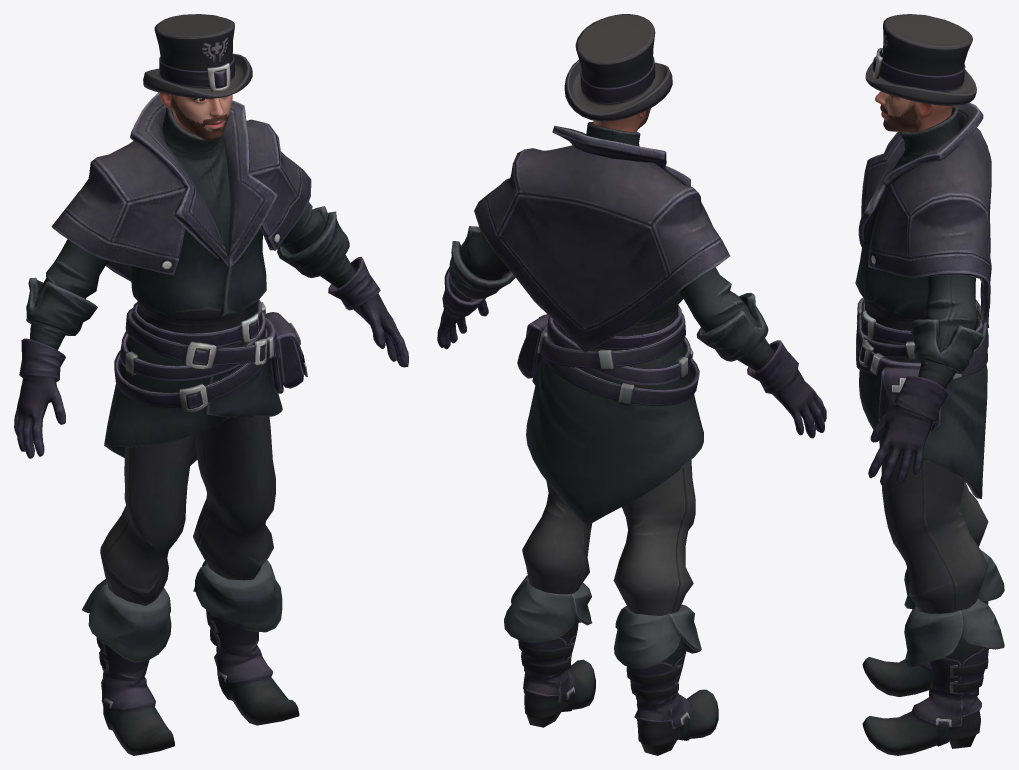
Rendered from person.gltf.
3 renders of one model, left to right at view 1: azimuth 30°, elevation 25°; view 2: azimuth 150°, elevation 25°; view 3: azimuth 270°, elevation 25°, orthographic.
Visible parts, largest first — view 1: Wolf3D_Outfit_Top, Wolf3D_Outfit_Bottom, Wolf3D_Outfit_Footwear, Wolf3D_Headwear, Wolf3D_Head; view 2: Wolf3D_Outfit_Top, Wolf3D_Outfit_Bottom, Wolf3D_Outfit_Footwear, Wolf3D_Headwear; view 3: Wolf3D_Outfit_Top, Wolf3D_Outfit_Bottom, Wolf3D_Outfit_Footwear, Wolf3D_Headwear, Wolf3D_Head.
Part boxes in pixels (<box>): Wolf3D_Outfit_Top: <box>14,92,408,465</box>; Wolf3D_Outfit_Bottom: <box>100,299,307,605</box>; Wolf3D_Outfit_Footwear: <box>82,560,299,755</box>; Wolf3D_Headwear: <box>143,14,252,98</box>; Wolf3D_Head: <box>159,92,232,140</box>; Wolf3D_Outfit_Top: <box>437,122,826,525</box>; Wolf3D_Outfit_Bottom: <box>517,305,699,615</box>; Wolf3D_Outfit_Footwear: <box>504,575,718,755</box>; Wolf3D_Headwear: <box>564,14,672,121</box>; Wolf3D_Outfit_Top: <box>855,102,991,498</box>; Wolf3D_Outfit_Bottom: <box>856,297,988,613</box>; Wolf3D_Outfit_Footwear: <box>862,550,1004,755</box>; Wolf3D_Headwear: <box>865,14,976,105</box>; Wolf3D_Head: <box>875,91,953,132</box>.
Bounding box in the file's own units: 1.06 × 1.88 × 0.366.
8 materials, 8 textured.
